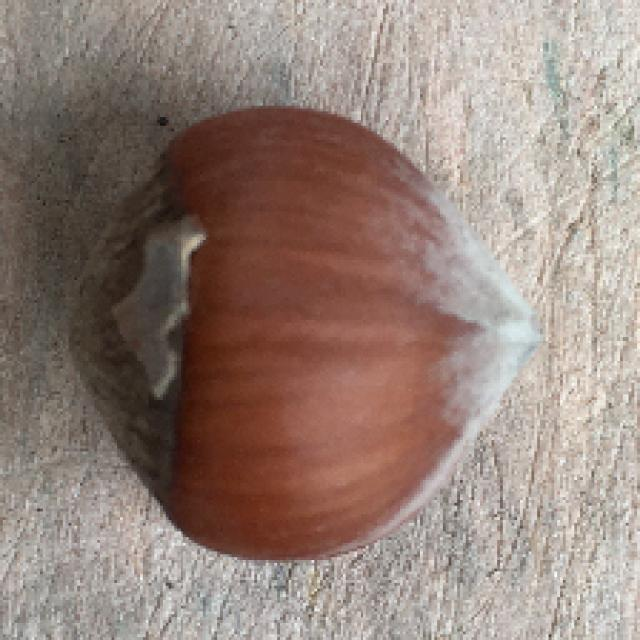qualityHazelnut: (59, 103, 546, 564)
